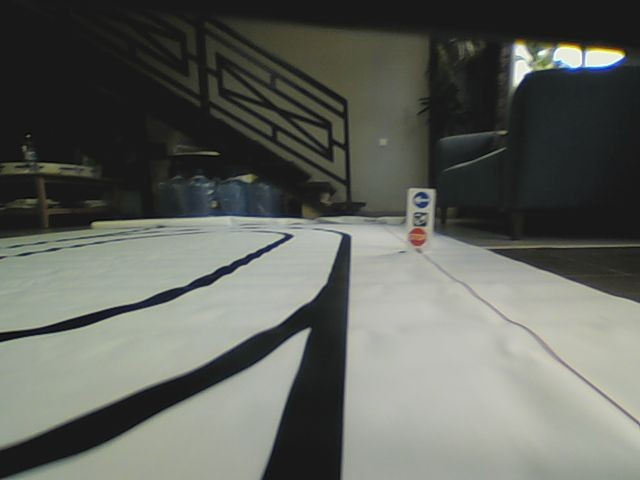Stop: (408, 227, 428, 247)
